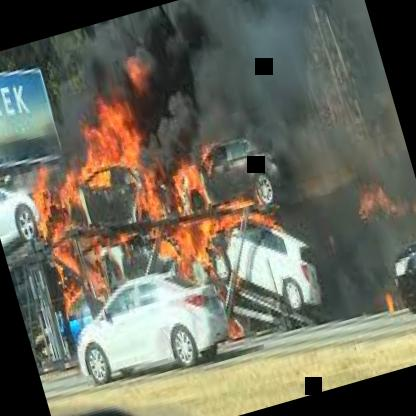fire: (19, 41, 276, 320)
